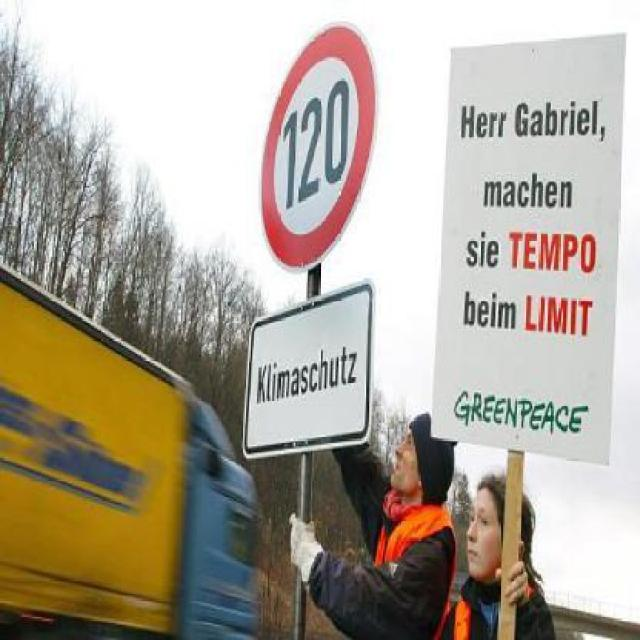forb_speed_over_120: (264, 29, 376, 269)
